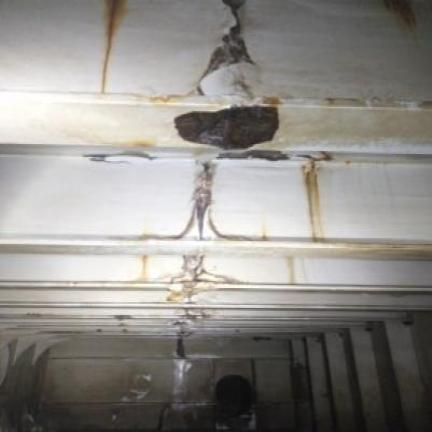besi_tidak_karat: (0, 0, 431, 431), (0, 0, 431, 103), (0, 153, 318, 251), (0, 91, 238, 154), (313, 158, 431, 252), (250, 98, 431, 153), (0, 237, 431, 257), (0, 103, 183, 145)
karat: (199, 0, 253, 91), (175, 106, 278, 148), (168, 255, 238, 301), (302, 157, 324, 241), (192, 163, 213, 240), (218, 150, 289, 157), (137, 255, 149, 281), (289, 257, 294, 282)
